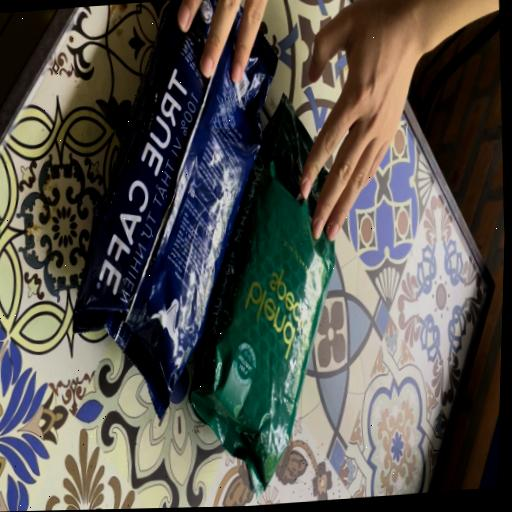cafe_hat: (74, 0, 275, 418)
cafe_xay: (189, 97, 334, 495)
